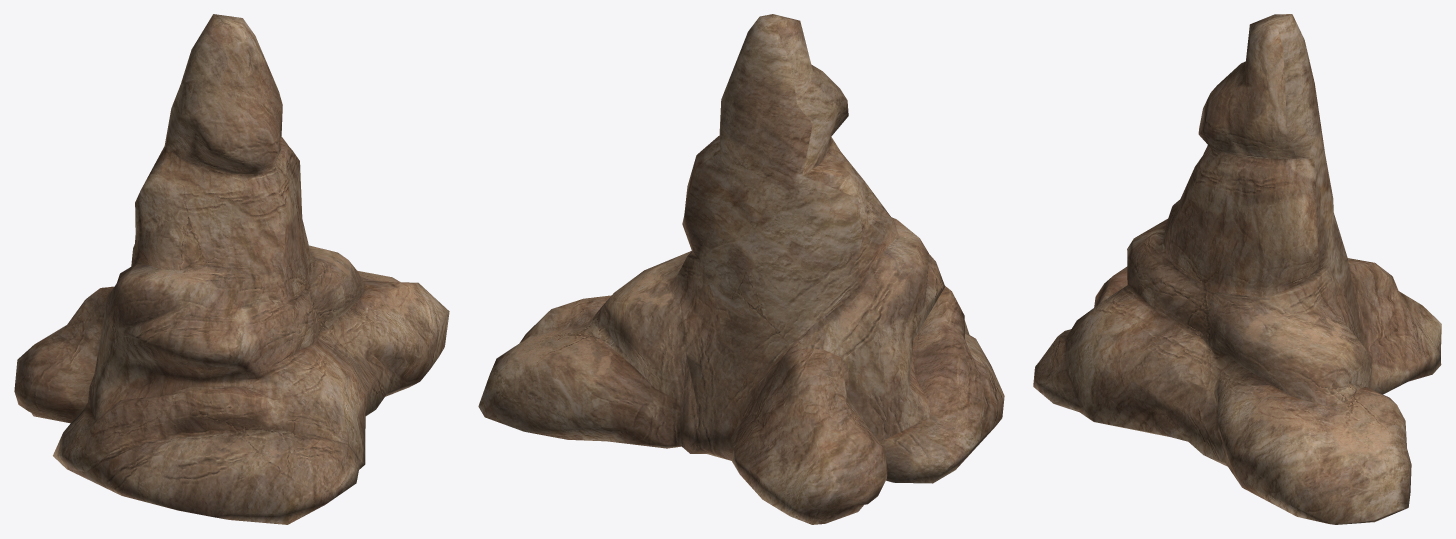
The model's file is rock_medium_pillar02.dae.
3 renders of one model, left to right at view 1: azimuth 30°, elevation 25°; view 2: azimuth 150°, elevation 25°; view 3: azimuth 270°, elevation 25°, orthographic. The views are drawn at different scales.
Visible parts, largest first — view 1: Mesh; view 2: Mesh; view 3: Mesh.
Boxes of the visible parts, x1=… form: Mesh: x1=14, y1=14, x2=449, y2=524; Mesh: x1=478, y1=14, x2=1004, y2=524; Mesh: x1=1033, y1=14, x2=1441, y2=524.
Bounding box in the file's own units: 12.43 × 11.71 × 10.76.
